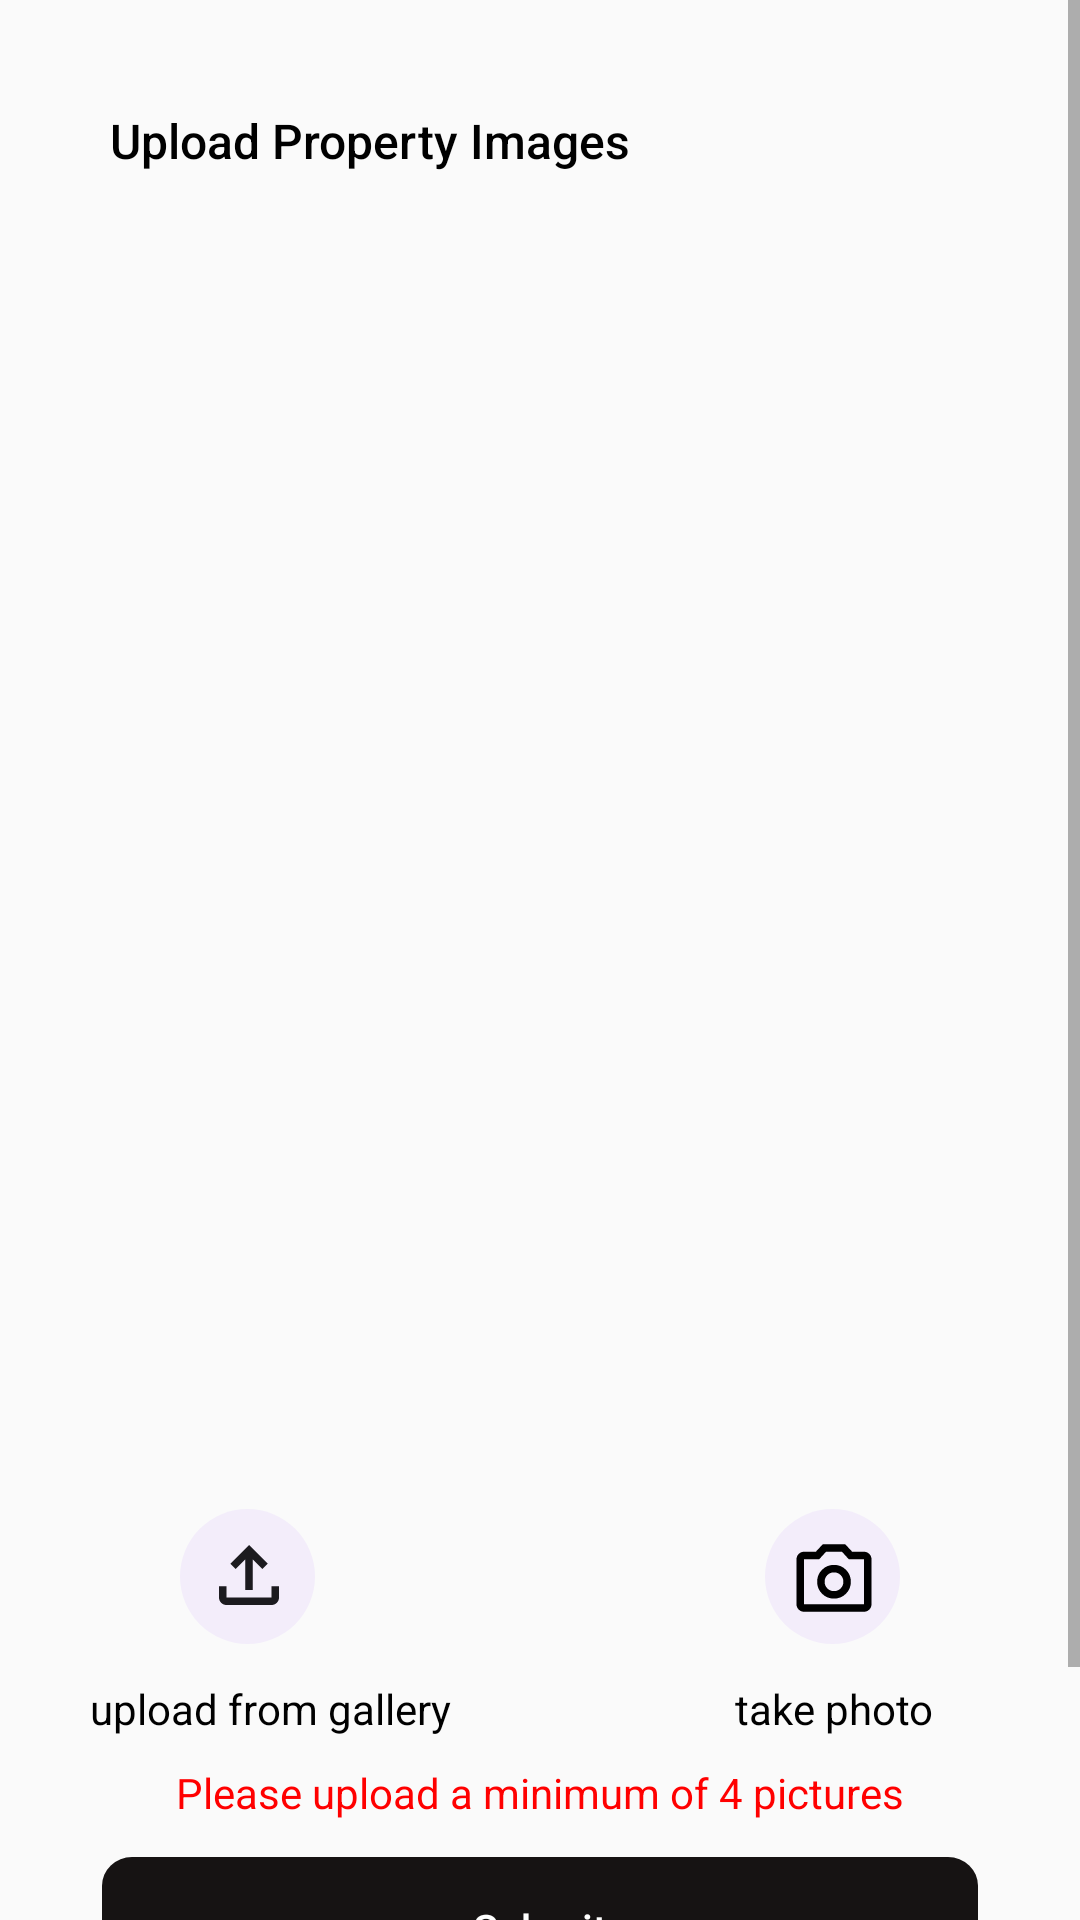

Locate icon controls on the screen. Image size 1080 x 1920, boxes as (x1, y1, x2, y2).
camera: (796, 1544, 872, 1612)
